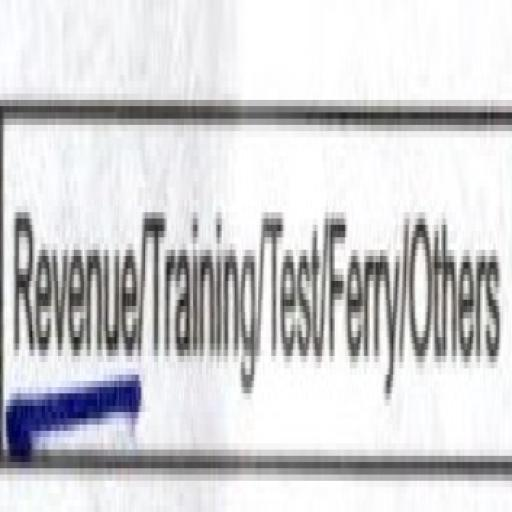check: (2, 31, 142, 512)
